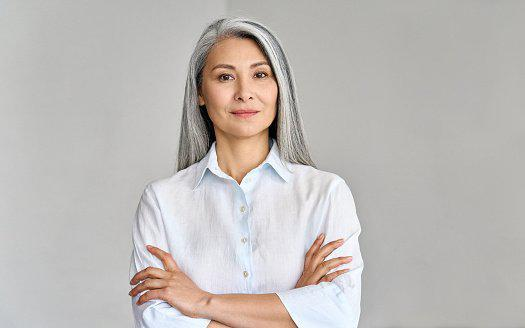Sober: (207, 44, 277, 133)
